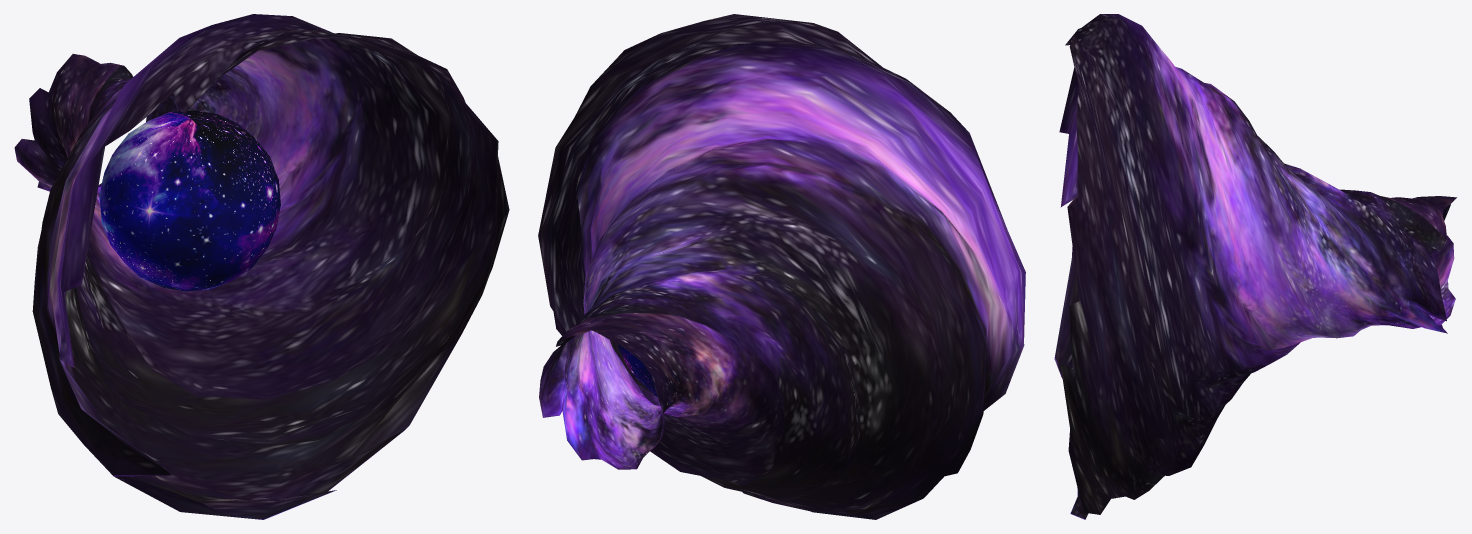
Rendered from Warp.fbx.
3 views of the same model, side by side, from view 1: azimuth 30°, elevation 25°; view 2: azimuth 150°, elevation 25°; view 3: azimuth 270°, elevation 25° (orthographic). The views are drawn at different scales.
Parts seen in each view (by area): view 1: SM_ky_tornado3.001, SM_ky_tornado3.002, MS_GeoSphere; view 2: SM_ky_tornado3.001, SM_ky_tornado3.002, MS_GeoSphere; view 3: SM_ky_tornado3.001, SM_ky_tornado3.002.
Boxes of the visible parts, bbox=[...] form: SM_ky_tornado3.001: bbox=[14, 14, 509, 519]; SM_ky_tornado3.002: bbox=[15, 14, 509, 518]; MS_GeoSphere: bbox=[99, 110, 280, 291]; SM_ky_tornado3.001: bbox=[538, 14, 1025, 519]; SM_ky_tornado3.002: bbox=[539, 15, 1025, 519]; MS_GeoSphere: bbox=[618, 344, 657, 396]; SM_ky_tornado3.001: bbox=[1054, 14, 1456, 519]; SM_ky_tornado3.002: bbox=[1055, 14, 1454, 518].
Bounding box in the file's own units: 0.6387 × 0.6503 × 0.5207.
Materials: 3 (3 with a texture image).
